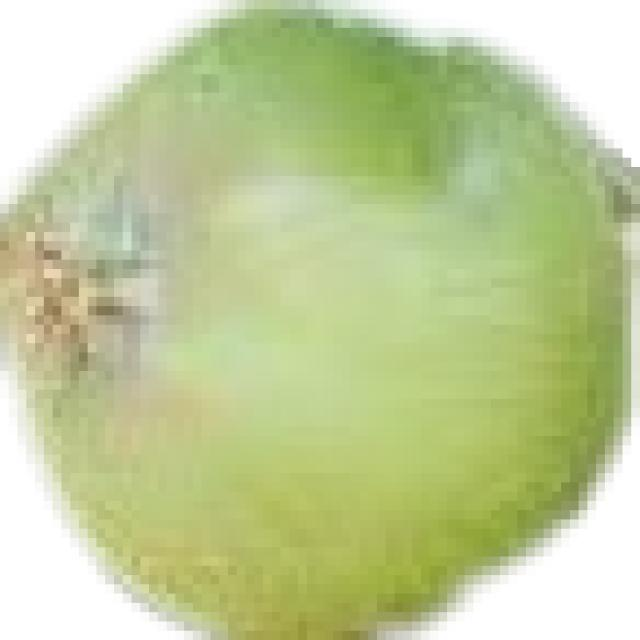20-_ripeness: (7, 0, 640, 636)
